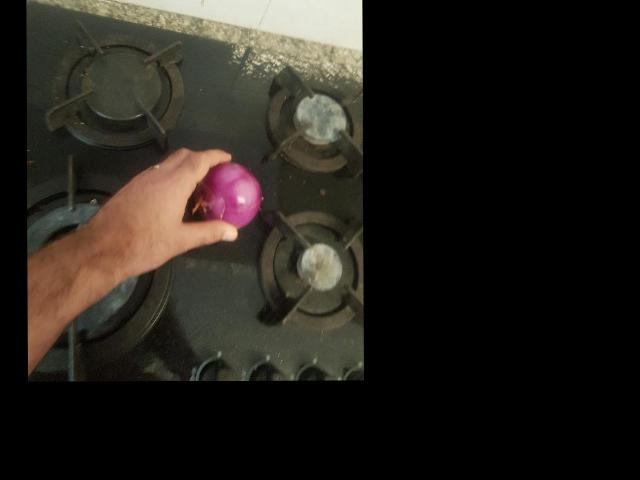onion: (259, 35, 322, 98)
